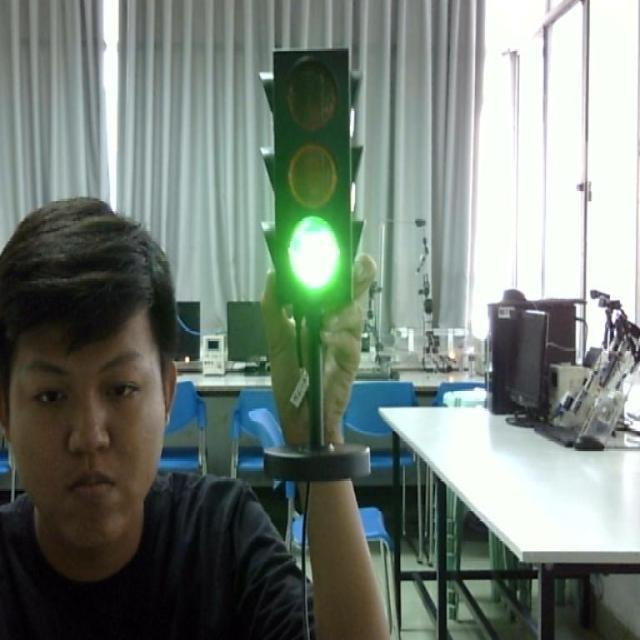green light: (280, 209, 358, 314)
